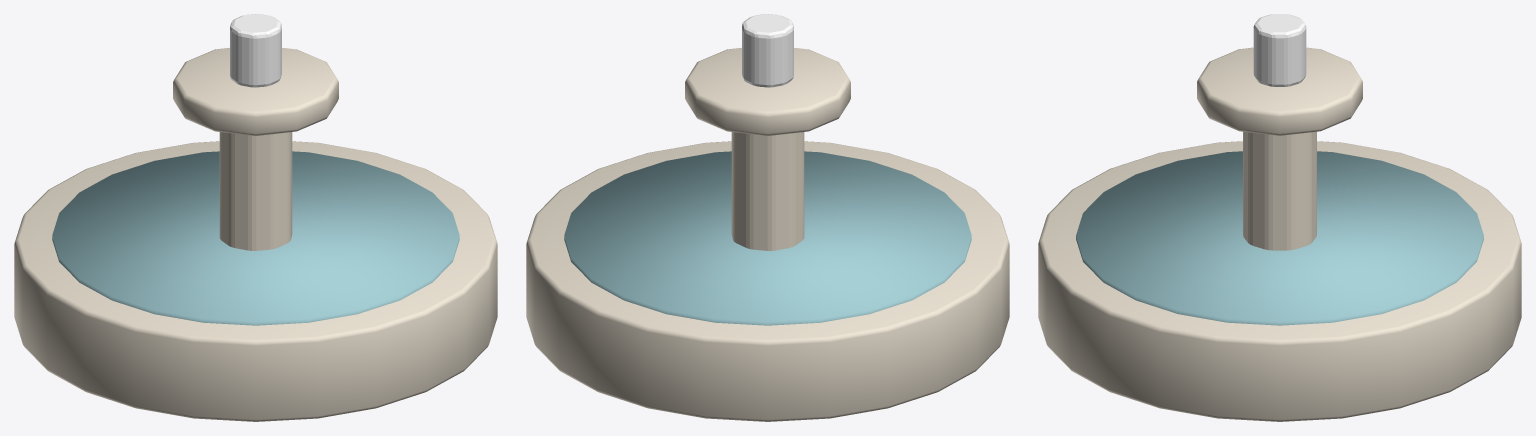
Rendered from lm_portugal_fountain.glb.
The picture shows the model from 3 angles, left to right: view 1: azimuth 30°, elevation 25°; view 2: azimuth 150°, elevation 25°; view 3: azimuth 270°, elevation 25°; orthographic projection.
Parts seen in each view (by area): view 1: lm_portugal_fountain; view 2: lm_portugal_fountain; view 3: lm_portugal_fountain.
Part boxes in pixels (<box>): lm_portugal_fountain: <box>14,14,497,421</box>; lm_portugal_fountain: <box>526,14,1009,421</box>; lm_portugal_fountain: <box>1038,14,1521,421</box>.
Bounding box in the file's own units: 3.2 × 2.18 × 3.2.
